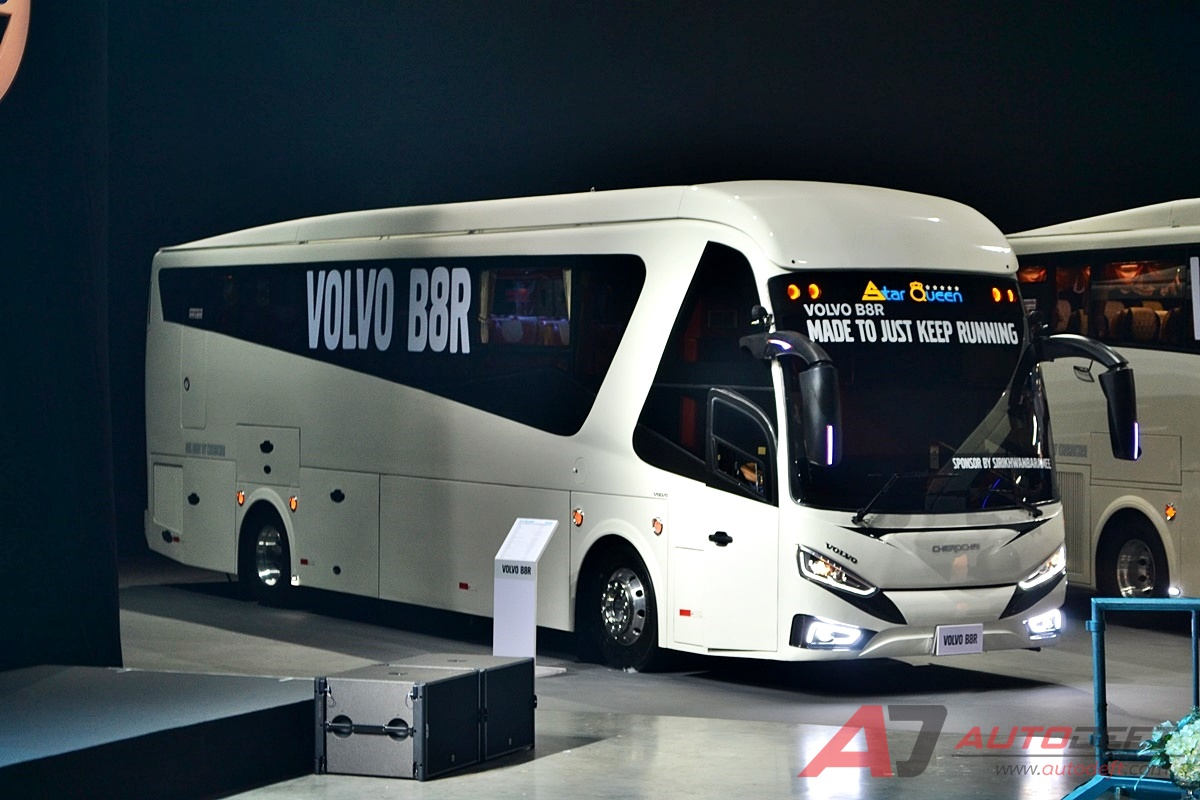bus: (134, 175, 1064, 664)
